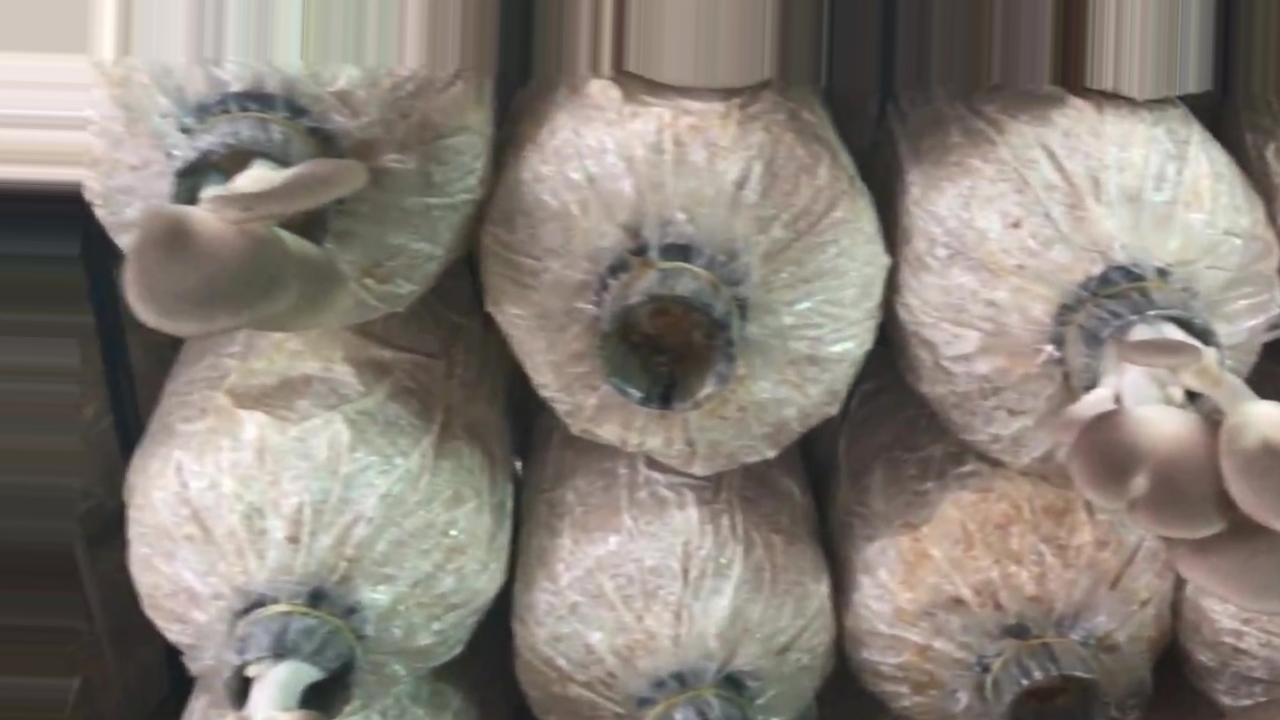nam: (1052, 280, 1280, 614), (121, 114, 380, 343)
